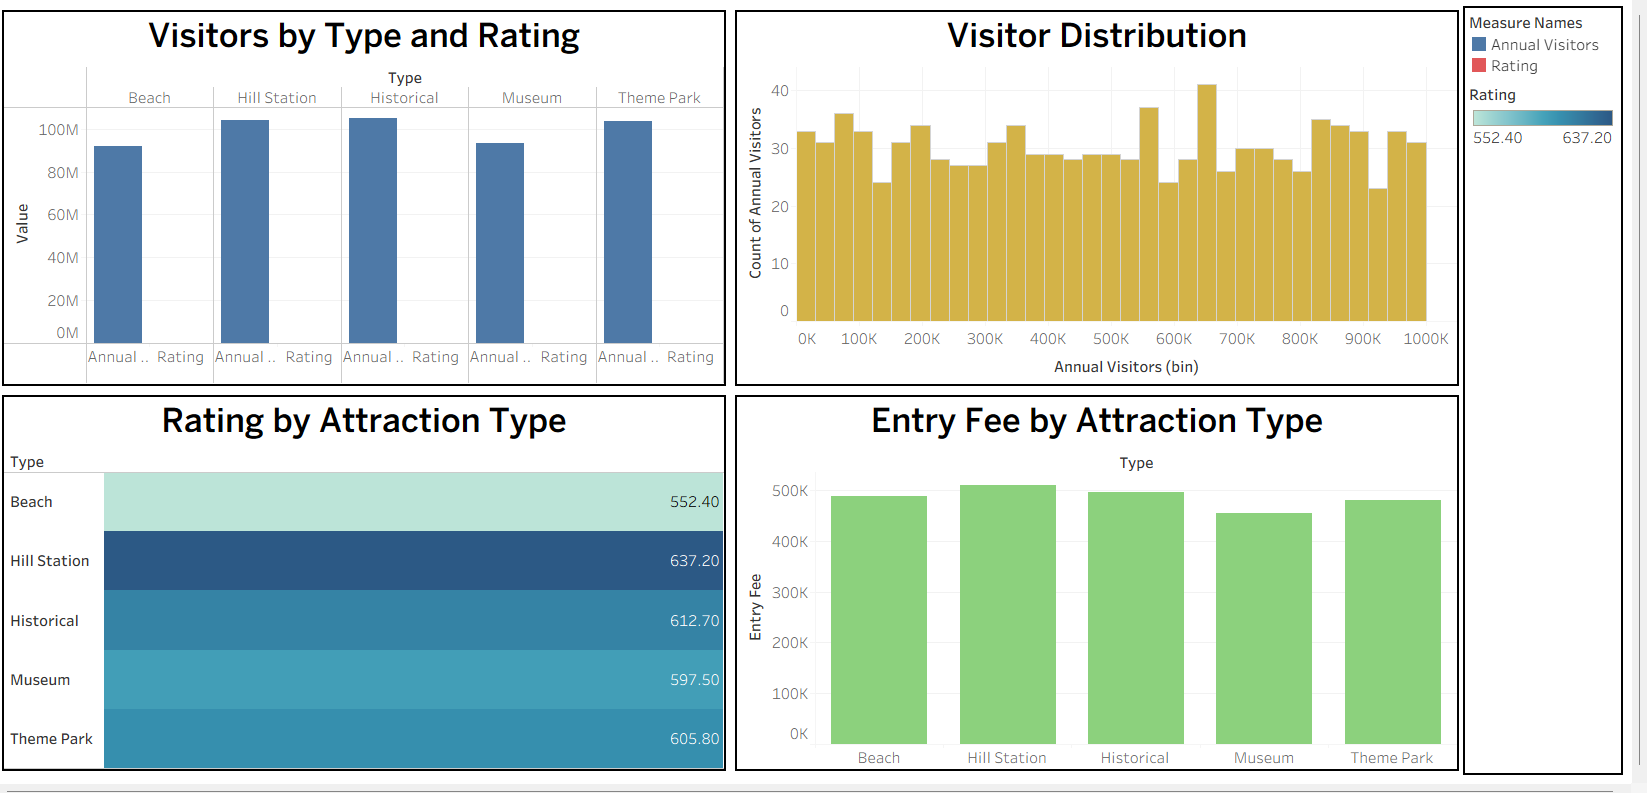

The dashboard page shown, as its layout file describes it:
{"tool":"tableau","page":{"name":"Dashboard 2","canvas":[1000,1000],"units":"permille","ordinal":1},"visuals":[{"type":"worksheet","title":"Sheet 3","mark":"Automatic","cols":["Type"],"box":[4.9,10.2,446.4,489.8]},{"type":"worksheet","title":"Sheet 4","mark":"Automatic","rows":["Annual Visitors"],"cols":["Annual Visitors (bin)"],"box":[451.2,10.2,446.4,489.8]},{"type":"legend","title":"Sheet 3","param":"[federated.1f3yszq0ng22h01115kip0394kwc].[:Measure Names]","box":[898.8,12.7,95.1,91.7]},{"type":"legend","title":"Sheet 5","param":"[federated.1f3yszq0ng22h01115kip0394kwc].[sum:Rating:qk]","box":[898.8,104.5,95.1,93]},{"type":"worksheet","title":"Sheet 5","mark":"Square","rows":["Type"],"box":[4.9,500,446.4,489.8]},{"type":"worksheet","title":"Sheet 6","mark":"Automatic","rows":["Entry Fee"],"cols":["Type"],"box":[451.2,500,446.4,489.8]}]}

Visuals, with their boxes on the dashboard's canvas, which has no fixed pixel size, in thousandths of its width and height (x1, y1, x2, y2). These are canvas units, not pixel positions in the 1647x793 screenshot, which may show the page scaled, cropped or inside an application window:
"Sheet 3" worksheet: (left=5, top=10, right=451, bottom=500)
"Sheet 4" worksheet: (left=451, top=10, right=898, bottom=500)
"Sheet 3" legend: (left=899, top=13, right=994, bottom=104)
"Sheet 5" legend: (left=899, top=104, right=994, bottom=198)
"Sheet 5" worksheet (Square marks): (left=5, top=500, right=451, bottom=990)
"Sheet 6" worksheet: (left=451, top=500, right=898, bottom=990)
